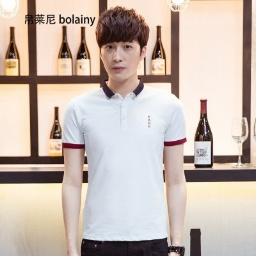face: (95, 5, 150, 82)
